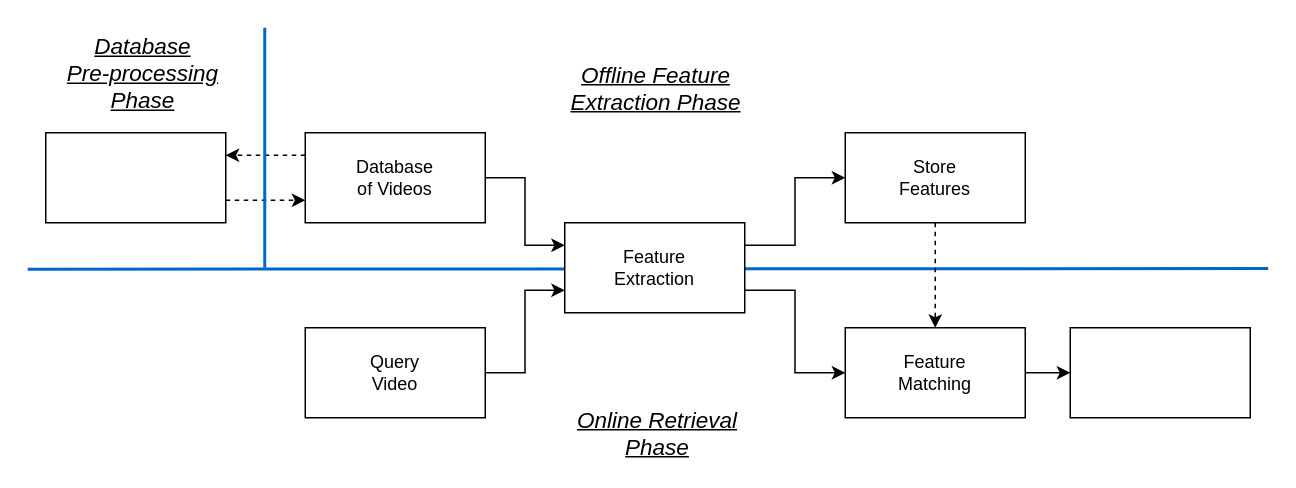
Image size: 1296x488. Some labels were removed from this diagram. Here are the shapes that lost their labels. From the top down, the centre of each, then its label:
At (x=135, y=177): "Pre-processing".
At (x=1159, y=372): "Retrieved Video".
